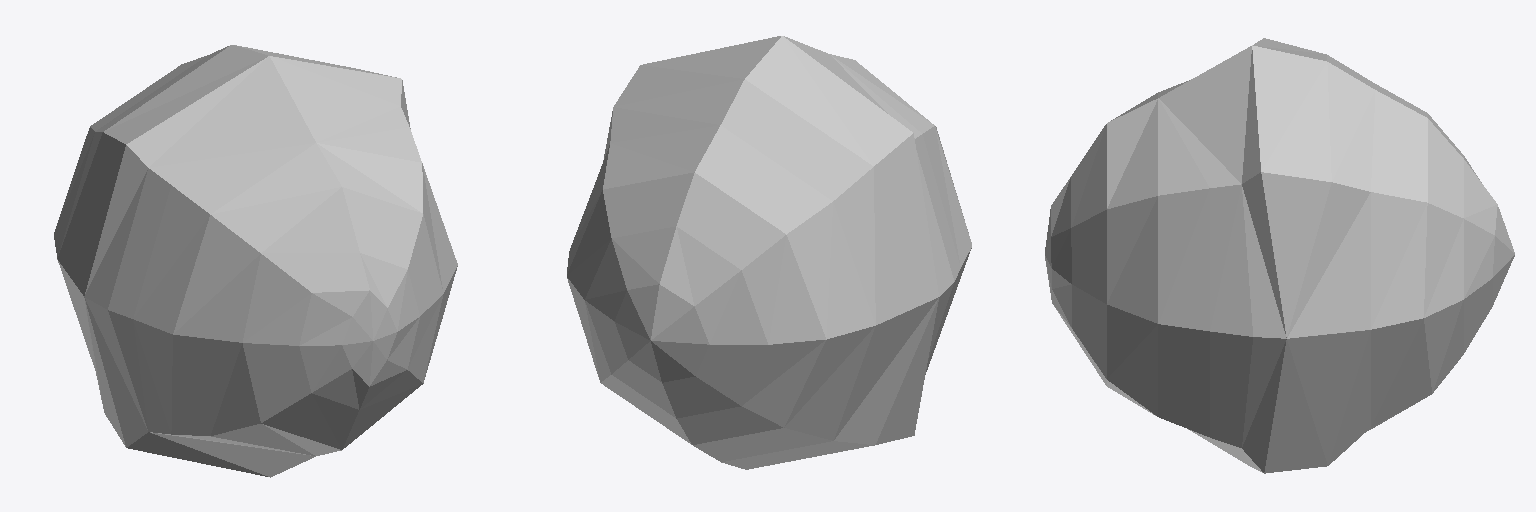
File: CatEye.obj
The picture shows the model from 3 angles: view 1: azimuth 30°, elevation 25°; view 2: azimuth 150°, elevation 25°; view 3: azimuth 270°, elevation 25°; orthographic projection.
Visible parts, largest first — view 1: Sphere_Sphere.001; view 2: Sphere_Sphere.001; view 3: Sphere_Sphere.001.
Part boxes in pixels (x1,y1,x2,y2): Sphere_Sphere.001: (54,45,457,477); Sphere_Sphere.001: (567,36,971,469); Sphere_Sphere.001: (1045,38,1514,473).
Size of the model in its own units: 0.933 by 1.09 by 1.11.